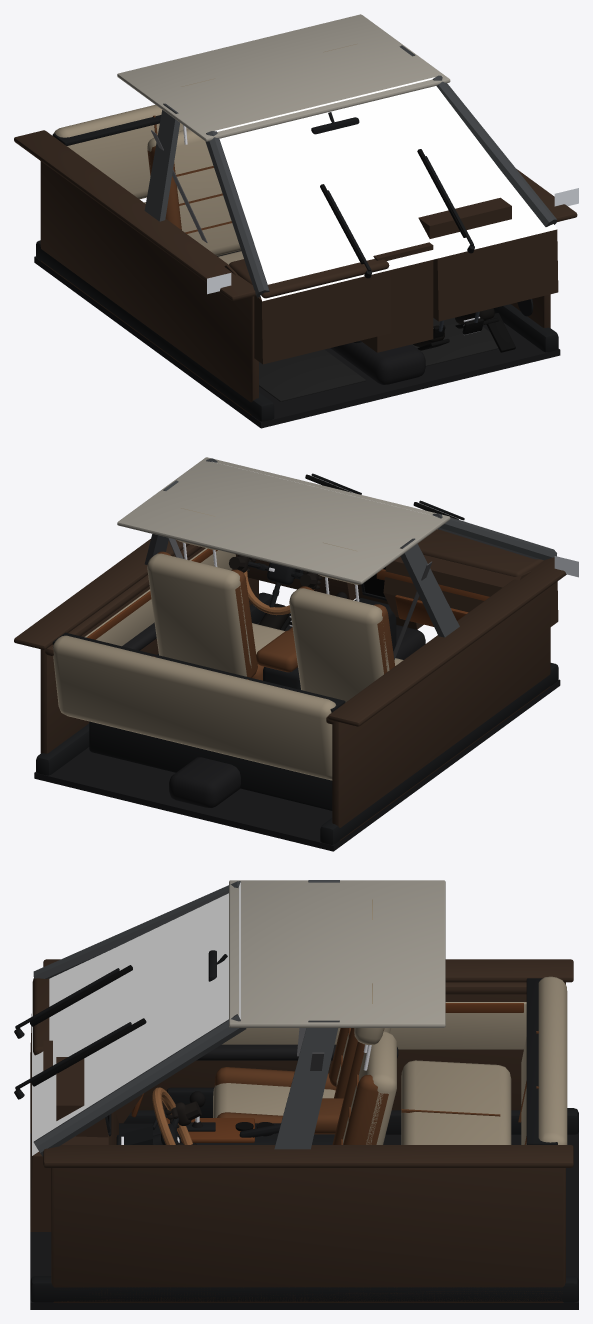
The model's file is interior-sedan.glb.
The picture shows the model from 3 angles, top to bottom: view 1: azimuth 30°, elevation 25°; view 2: azimuth 150°, elevation 25°; view 3: azimuth 270°, elevation 25°; orthographic projection. The views are drawn at different scales.
Visible parts, largest first — view 1: Cabin, RainGlass, Wiper_A, Wiper_B; view 2: Cabin, Wheel; view 3: Cabin, RainGlass, Wheel, Wiper_A, Wiper_B.
Part boxes in pixels (x1,y1,x2,y2): Cabin: (14,14,578,428); RainGlass: (215,77,557,301); Wiper_A: (417,149,474,253); Wiper_B: (320,184,372,278); Cabin: (14,457,578,851); Wheel: (229,555,321,615); Cabin: (30,880,578,1309); RainGlass: (32,882,240,1155); Wheel: (152,1087,201,1144); Wiper_A: (14,1018,146,1099); Wiper_B: (14,965,132,1038).
Size of the model in its own units: 1.99 by 1.2 by 2.16.
